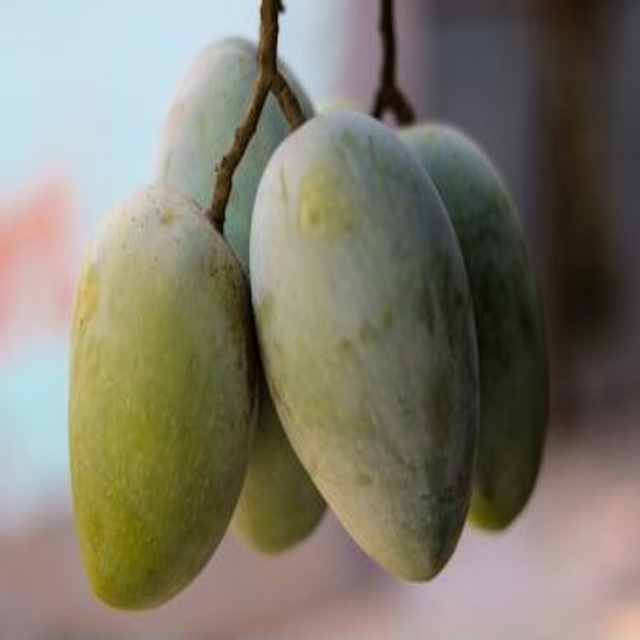mango: (249, 102, 479, 585), (60, 189, 249, 611), (410, 123, 563, 538)
